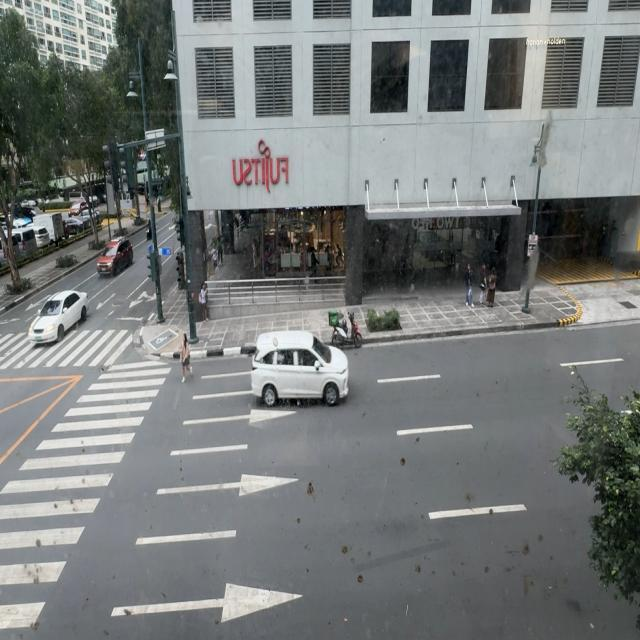jaywalking: (180, 333, 192, 383)
